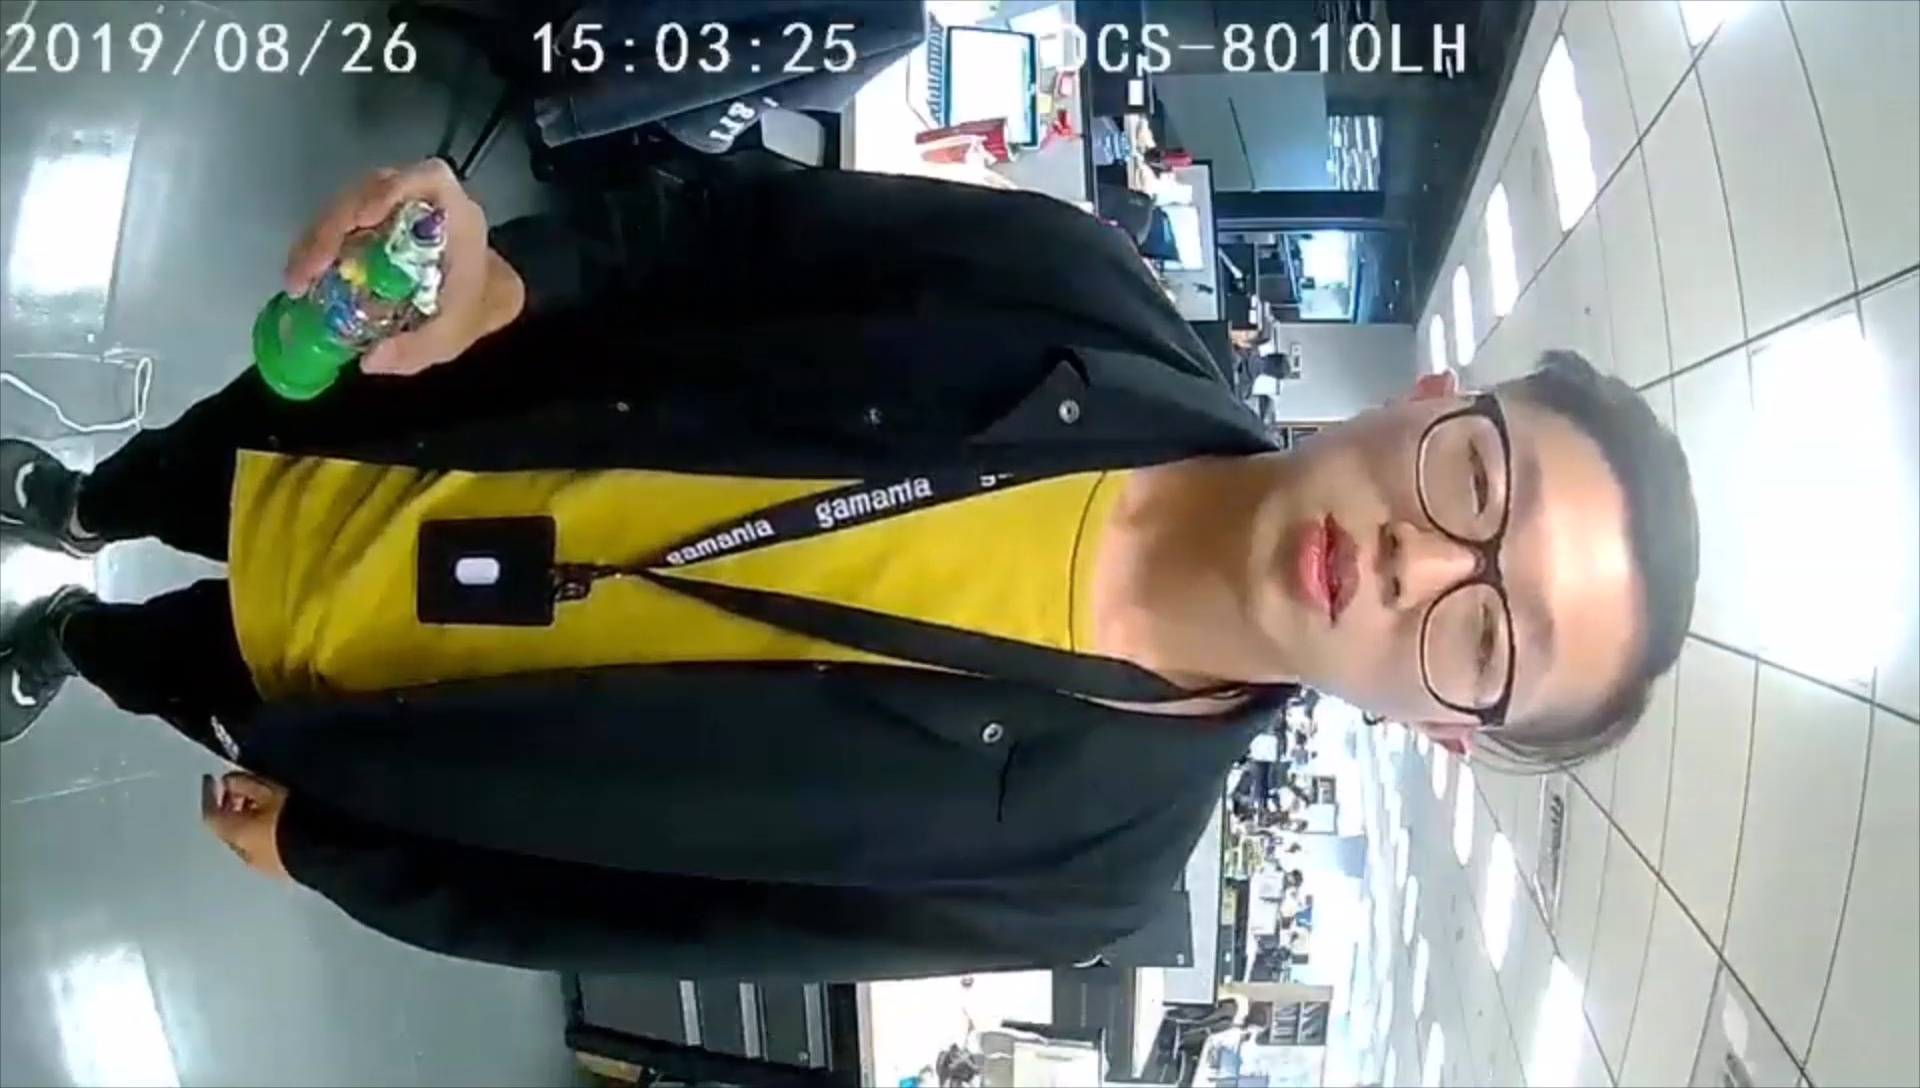buzz: (245, 190, 462, 404)
